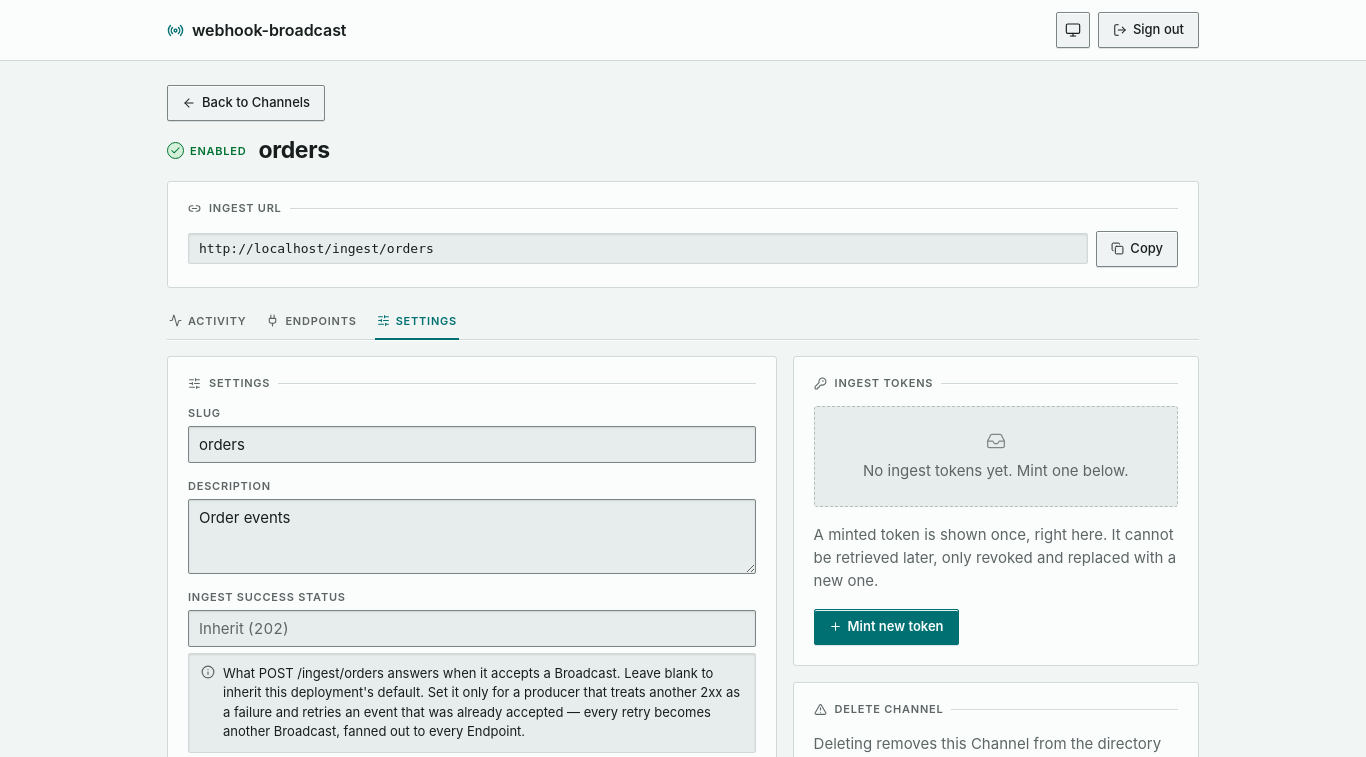
Test: dashboard smoke flow › renaming a Channel's slug › moves a slug-form URL onto the new slug
The width and height of the screenshot is (1366, 757).
Replace the text in the field labelled "Slug" with "orders-eu": (472, 444) [188,426,756,463]
(page scrolled)
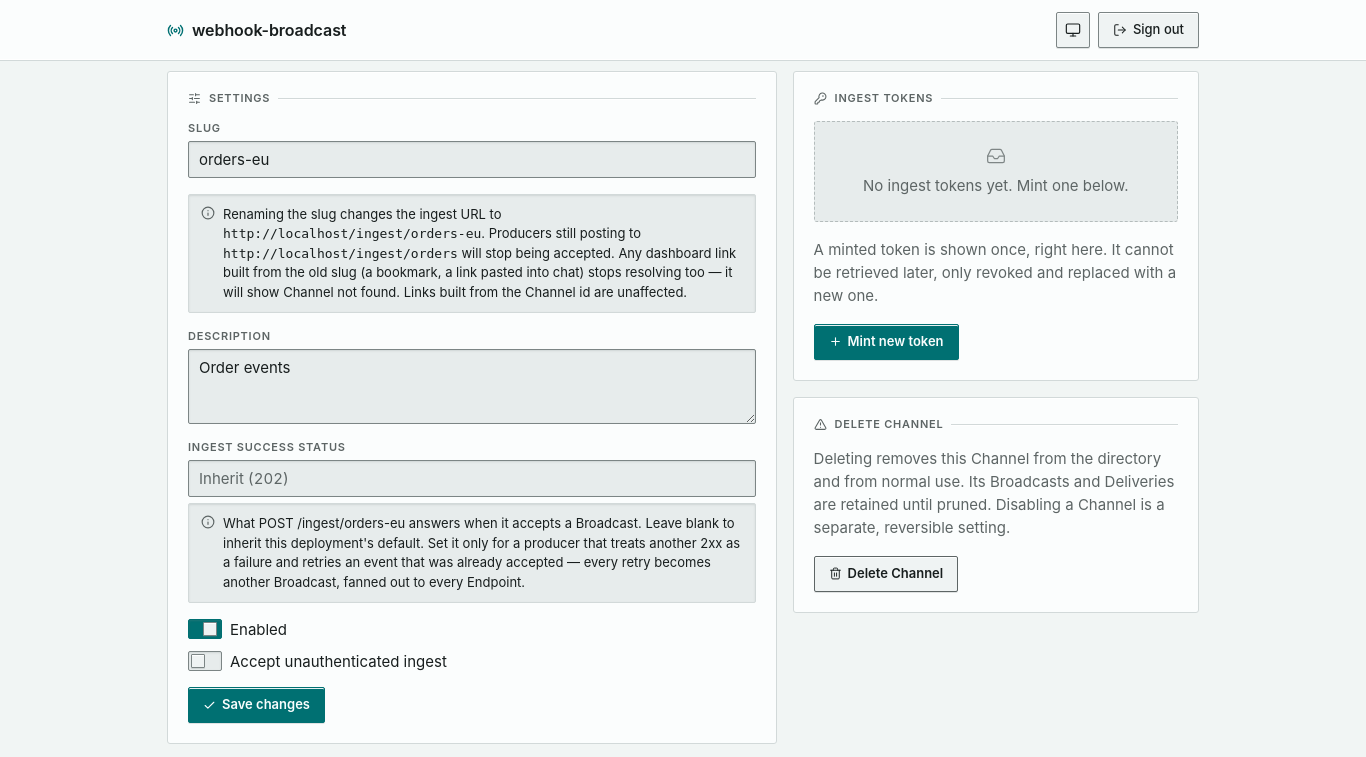
Click the button "Save changes": (256, 705) [188,687,325,723]
(page scrolled)
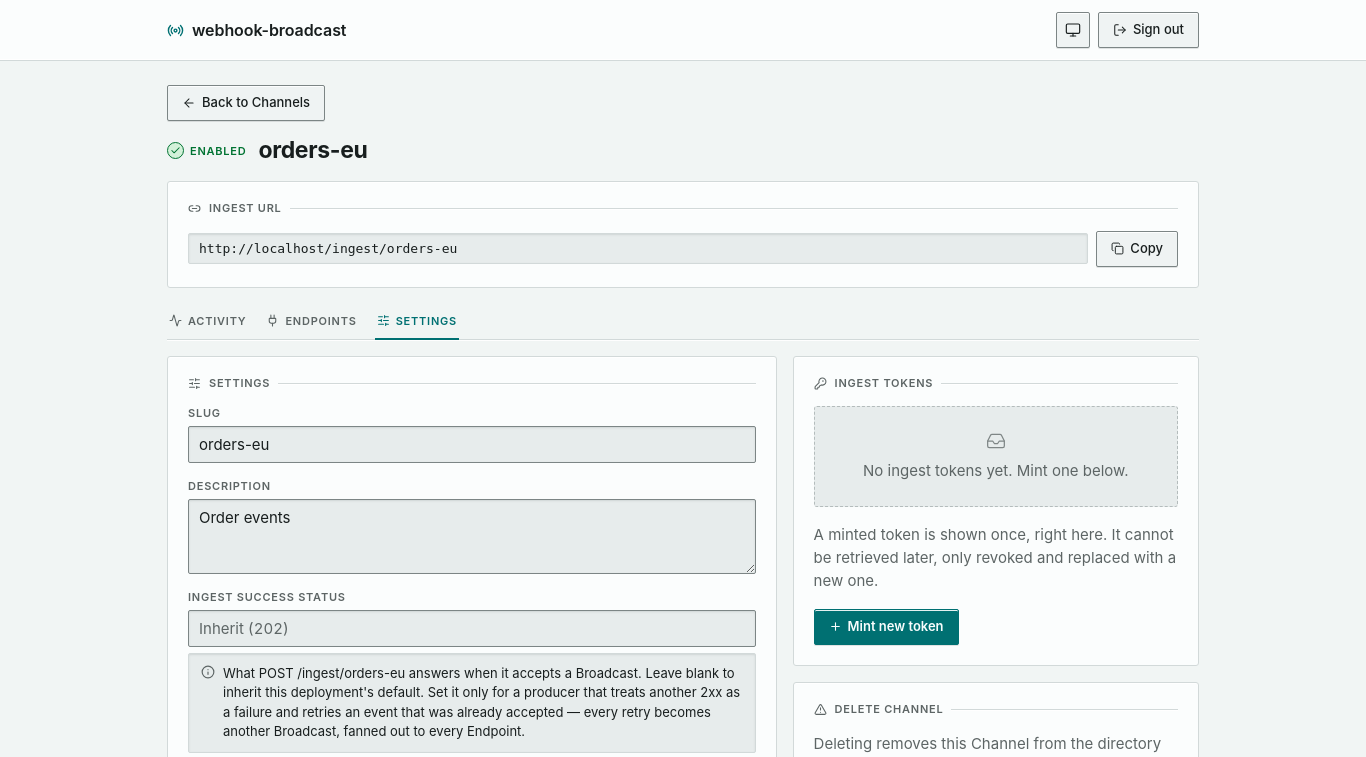
Expected: the heading "orders-eu" is shown, [258,137,368,165]
Expected: the heading "Channel not found" is gone
